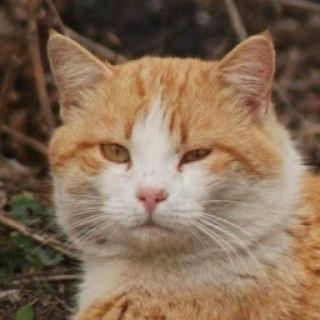cat: (40, 24, 288, 262)
nose: (131, 177, 180, 215)
